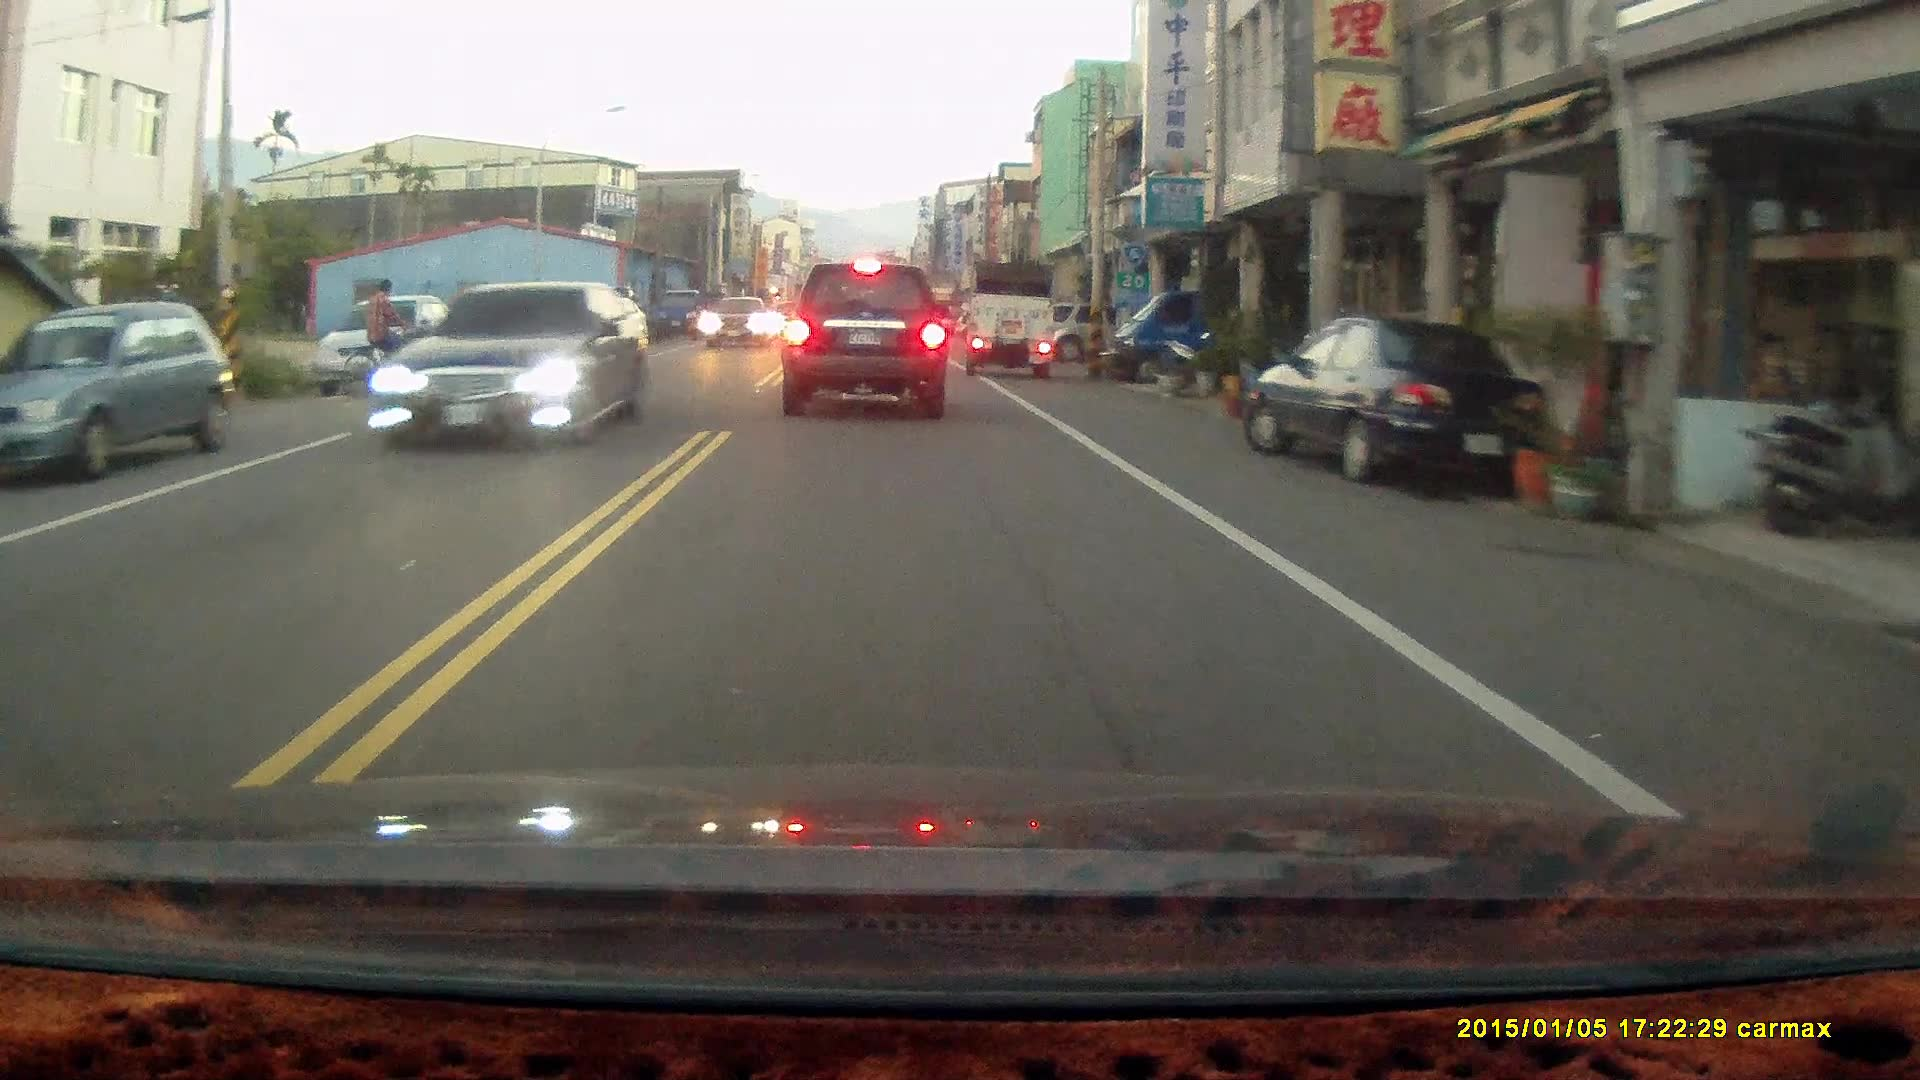rider: (339, 274, 430, 400)
vehicle: (1240, 314, 1549, 488), (360, 283, 661, 450), (2, 306, 230, 481), (784, 262, 949, 420), (309, 295, 485, 398), (1100, 271, 1249, 383), (962, 258, 1057, 375), (705, 298, 778, 348)
